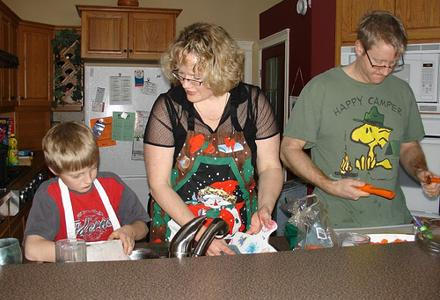person: (145, 22, 288, 256)
